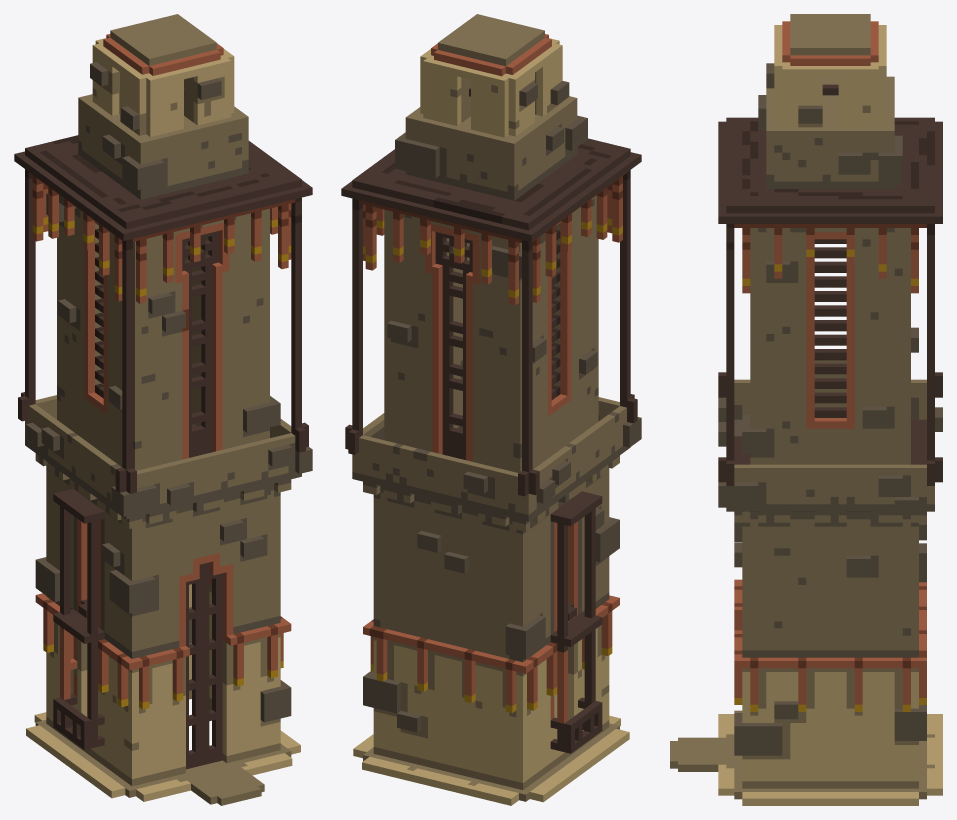
The model's file is tall_building.glb.
3 views of the same model, side by side, from view 1: azimuth 30°, elevation 25°; view 2: azimuth 150°, elevation 25°; view 3: azimuth 270°, elevation 25° (orthographic). The views are drawn at different scales.
Visible parts, largest first — view 1: Untitled; view 2: Untitled; view 3: Untitled.
Boxes of the visible parts, bbox=[...] form: Untitled: bbox=[14, 14, 312, 805]; Untitled: bbox=[341, 14, 641, 805]; Untitled: bbox=[670, 14, 942, 805].
Size of the model in its own units: 2.8 by 10 by 3.4.
Materials: 1 (1 with a texture image).
